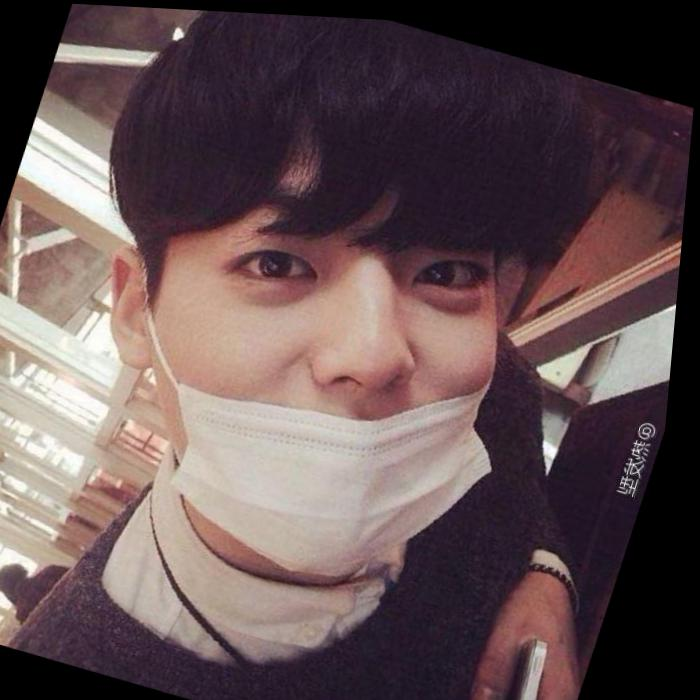WRONG: (64, 106, 571, 600)
